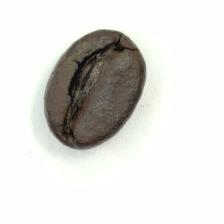NG: (59, 37, 125, 139)
